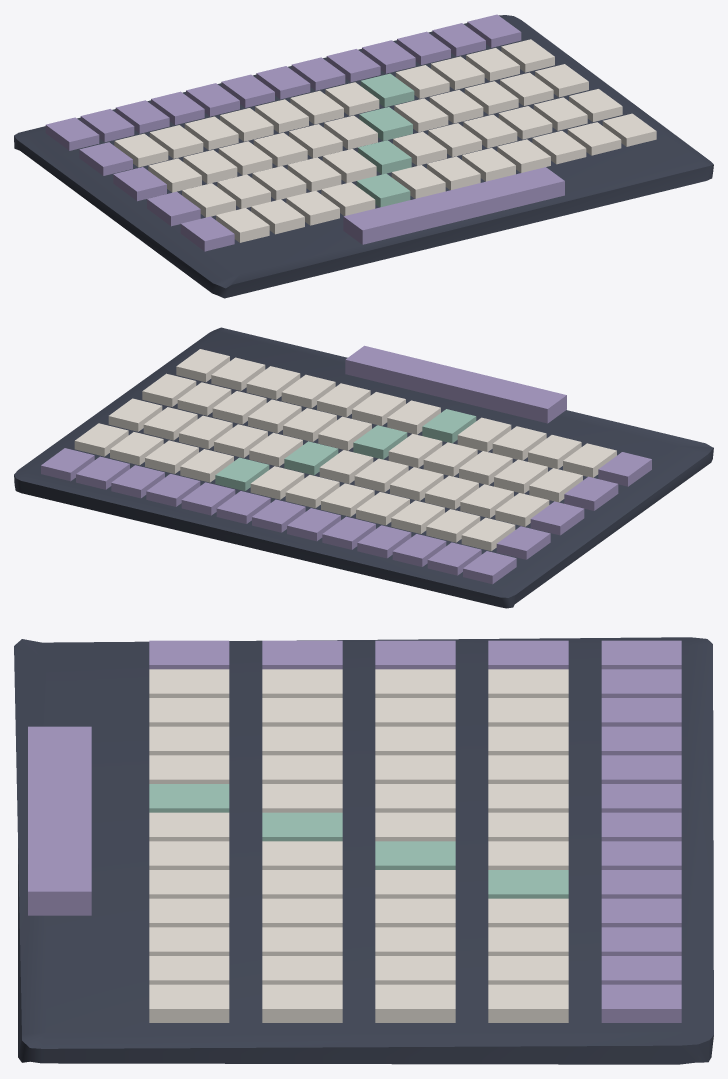
The model's file is gaming_keyboard.glb.
3 views of the same model, one above another, from view 1: azimuth 30°, elevation 25°; view 2: azimuth 150°, elevation 25°; view 3: azimuth 270°, elevation 25° (orthographic). The views are drawn at different scales.
Bounding box in the file's own units: 0.95 × 0.057 × 0.6867.
